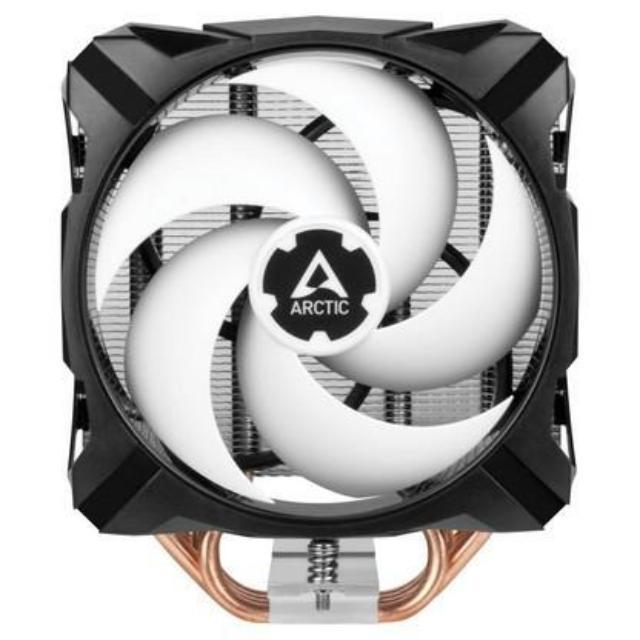CPU_Fan: (66, 13, 574, 613)
